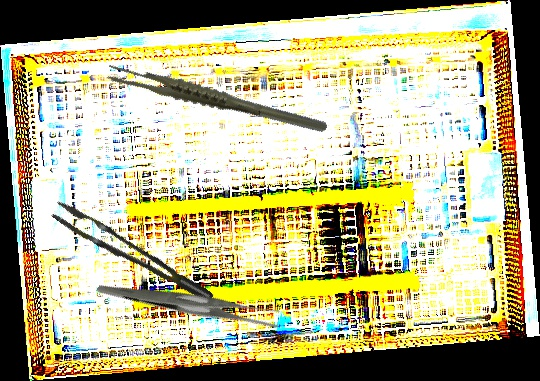Dressing Forceps: (96, 230, 285, 374)
Tissue Forceps: (102, 27, 330, 173), (48, 186, 215, 323)
